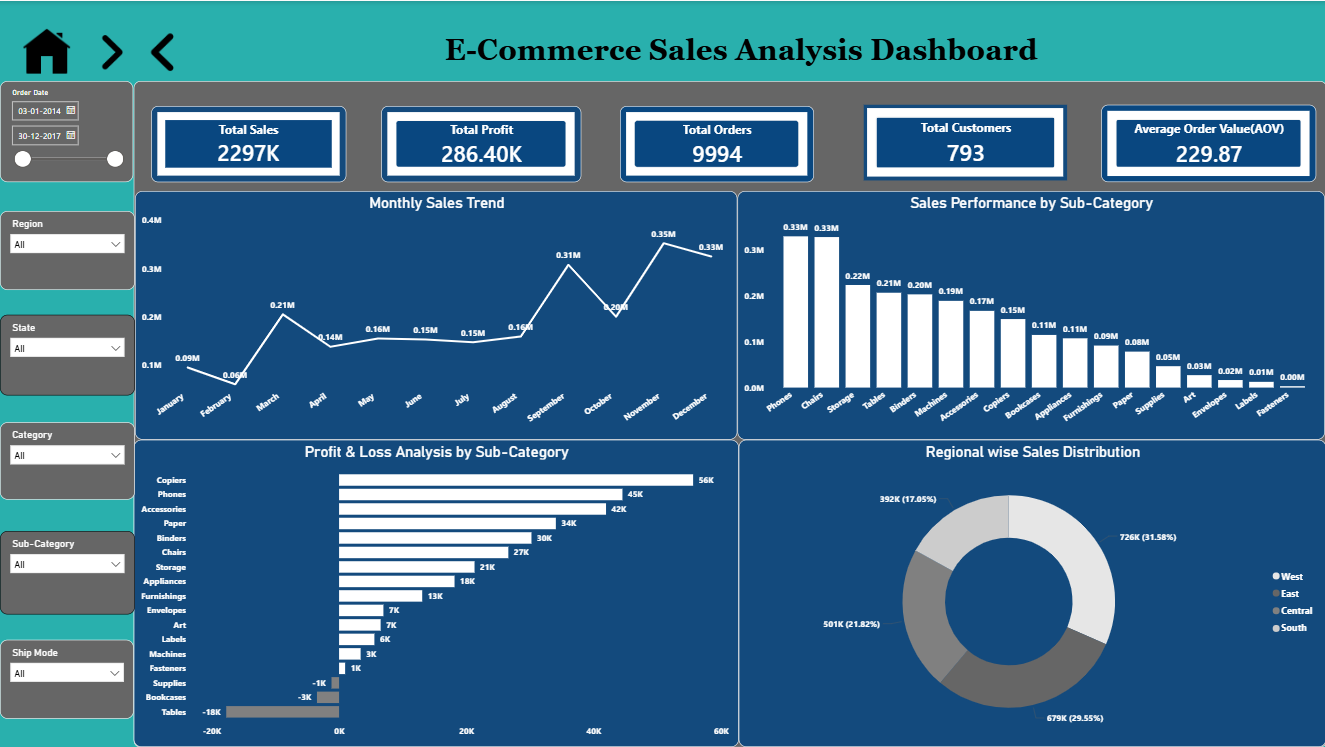

What the dashboard file says about the page in this screenshot:
{"tool":"powerbi","page":{"name":"Page 1","canvas":[1920,1080],"ordinal":0},"visuals":[{"type":"textbox","box":[193,115,1727,965],"z":0},{"type":"textbox","box":[638.8,41.6,1078.6,65.1],"z":1000},{"type":"cardVisual","fields":{"Data":["Sum('Sales Data$'FilterDatabase.Sales)"]},"box":[219,152,282.3,110.4],"z":2000},{"type":"cardVisual","fields":{"Data":["Sum('Sales Data$'FilterDatabase.Profit)"]},"box":[551.9,152,289.5,110.4],"z":3000},{"type":"cardVisual","fields":{"Data":["'Sales Data$'FilterDatabase.Total Orders"]},"box":[897.6,152,280.5,110.4],"z":4000},{"type":"cardVisual","fields":{"Data":["'Sales Data$'FilterDatabase.Average Orders value"]},"box":[1594.3,150.2,311.3,112.2],"z":5000},{"type":"lineChart","title":"Monthly Sales Trend","fields":{"Category":["'Sales Data$'FilterDatabase.Order Date.Variation.Date Hierarchy.Month"],"Y":["Sum('Sales Data$'FilterDatabase.Sales)"]},"box":[195.4,275.1,872.3,360.1],"z":6000},{"type":"clusteredColumnChart","title":"Sales Performance by Sub-Category","fields":{"Y":["Sum('Sales Data$'FilterDatabase.Sales)"],"Category":["'Sales Data$'FilterDatabase.Sub-Category"]},"box":[1067,275,850,360],"z":7000},{"type":"clusteredBarChart","title":"Profit & Loss Analysis by Sub-Category","fields":{"Category":["'Sales Data$'FilterDatabase.Sub-Category"],"Y":["Sum('Sales Data$'FilterDatabase.Profit)"]},"box":[193.6,635.2,875.9,445.2],"z":8000},{"type":"donutChart","title":"Regional wise Sales Distribution","fields":{"Category":["'Sales Data$'FilterDatabase.Region"],"Y":["Sum('Sales Data$'FilterDatabase.Sales)"]},"box":[1069.5,635.2,850.5,445.2],"z":9000},{"type":"image","box":[33,33,70,83],"z":10000},{"type":"slicer","fields":{"Values":["'Sales Data$'FilterDatabase.Order Date"]},"box":[0,116,193,146],"z":11000},{"type":"slicer","fields":{"Values":["'Sales Data$'FilterDatabase.Region"]},"box":[0,304,195,114],"z":12000},{"type":"slicer","fields":{"Values":["'Sales Data$'FilterDatabase.State"]},"box":[0,455,195,117],"z":13000},{"type":"slicer","fields":{"Values":["'Sales Data$'FilterDatabase.Category"]},"box":[0,610,195,112],"z":14000},{"type":"slicer","fields":{"Values":["'Sales Data$'FilterDatabase.Sub-Category"]},"box":[0,767,195,121],"z":15000},{"type":"slicer","fields":{"Values":["'Sales Data$'FilterDatabase.Ship Mode"]},"box":[0,924.7,193.6,114],"z":16000},{"type":"image","box":[103,37,119,76],"z":17000},{"type":"image","box":[163,33,144,83],"z":18000},{"type":"cardVisual","fields":{"Data":["'Sales Data$'FilterDatabase.Total Customers"]},"box":[1251.2,150.8,294.2,109.9],"z":19000}]}

Visuals, with their boxes in screenshot pixels (x1, y1, x2, y2), scaled from the page's 1920x1080 canvas onto the 1325x747 screenshot:
textbox: bbox=(133, 80, 1324, 746)
textbox: bbox=(441, 29, 1185, 74)
cardVisual - Sum('Sales Data$'FilterDatabase.Sales): bbox=(151, 105, 346, 181)
cardVisual - Sum('Sales Data$'FilterDatabase.Profit): bbox=(381, 105, 581, 181)
cardVisual - 'Sales Data$'FilterDatabase.Total Orders: bbox=(619, 105, 813, 181)
cardVisual - 'Sales Data$'FilterDatabase.Average Orders value: bbox=(1100, 104, 1315, 181)
"Monthly Sales Trend" lineChart: bbox=(135, 190, 737, 439)
"Sales Performance by Sub-Category" clusteredColumnChart: bbox=(736, 190, 1323, 439)
"Profit & Loss Analysis by Sub-Category" clusteredBarChart: bbox=(134, 439, 738, 746)
"Regional wise Sales Distribution" donutChart: bbox=(738, 439, 1324, 746)
image: bbox=(23, 23, 71, 80)
slicer - 'Sales Data$'FilterDatabase.Order Date: bbox=(0, 80, 133, 181)
slicer - 'Sales Data$'FilterDatabase.Region: bbox=(0, 210, 135, 289)
slicer - 'Sales Data$'FilterDatabase.State: bbox=(0, 315, 135, 396)
slicer - 'Sales Data$'FilterDatabase.Category: bbox=(0, 422, 135, 499)
slicer - 'Sales Data$'FilterDatabase.Sub-Category: bbox=(0, 531, 135, 614)
slicer - 'Sales Data$'FilterDatabase.Ship Mode: bbox=(0, 640, 134, 718)
image: bbox=(71, 26, 153, 78)
image: bbox=(112, 23, 212, 80)
cardVisual - 'Sales Data$'FilterDatabase.Total Customers: bbox=(863, 104, 1066, 180)
